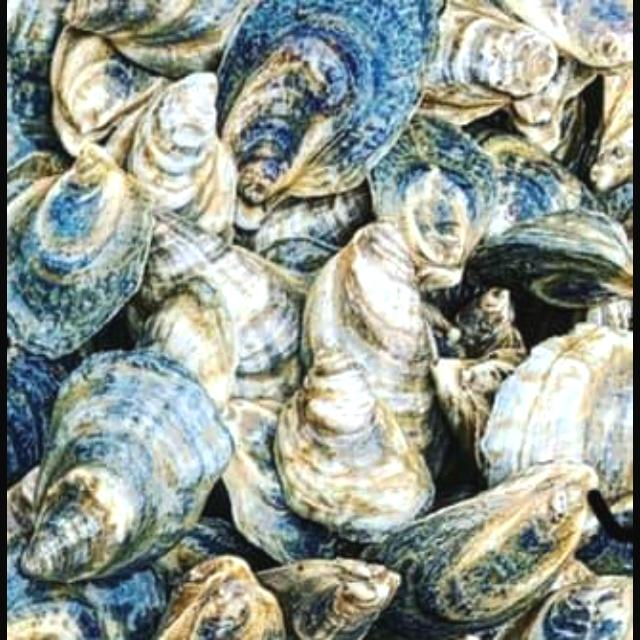Oyster-Closed: (216, 0, 447, 230), (23, 348, 234, 582), (364, 460, 603, 640), (482, 321, 634, 546), (298, 220, 440, 449), (273, 344, 437, 542), (7, 143, 156, 360), (129, 207, 303, 375), (367, 110, 500, 290), (102, 72, 239, 239), (223, 397, 340, 566), (418, 0, 562, 126), (7, 534, 162, 640), (473, 208, 634, 310), (50, 26, 173, 157), (475, 128, 609, 244), (136, 277, 241, 416), (61, 0, 251, 76), (7, 341, 97, 486), (252, 558, 405, 640), (434, 347, 531, 471), (157, 556, 288, 640), (150, 516, 282, 597), (502, 54, 597, 153), (7, 0, 68, 153), (495, 0, 634, 67), (228, 213, 339, 295), (257, 184, 371, 248), (581, 62, 634, 190), (530, 575, 634, 640), (456, 286, 530, 360)
